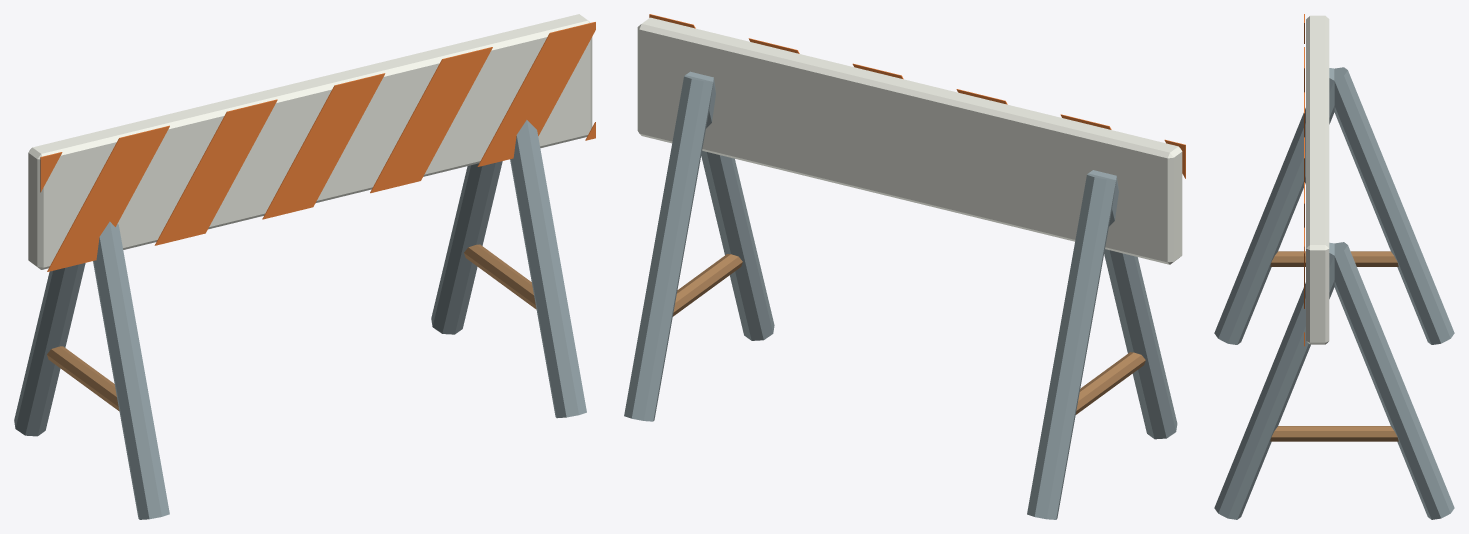
The model's file is Barricade_Striped.glb.
The picture shows the model from 3 angles, left to right: view 1: azimuth 30°, elevation 25°; view 2: azimuth 150°, elevation 25°; view 3: azimuth 270°, elevation 25°; orthographic projection. The views are drawn at different scales.
Visible parts, largest first — view 1: Barricade_Striped; view 2: Barricade_Striped; view 3: Barricade_Striped.
Boxes of the visible parts, x1,y1,x2,y2 form: Barricade_Striped: [14, 14, 595, 519]; Barricade_Striped: [624, 14, 1185, 519]; Barricade_Striped: [1214, 14, 1454, 519].
Bounding box in the file's own units: 1.65 × 0.9898 × 0.7207.
